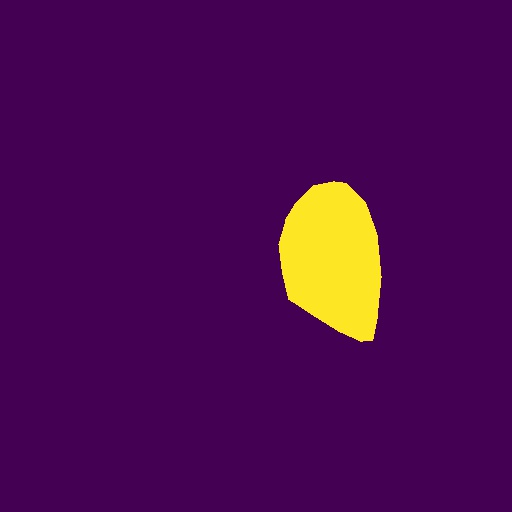Gliomia_tumour: (278, 181, 382, 342)
